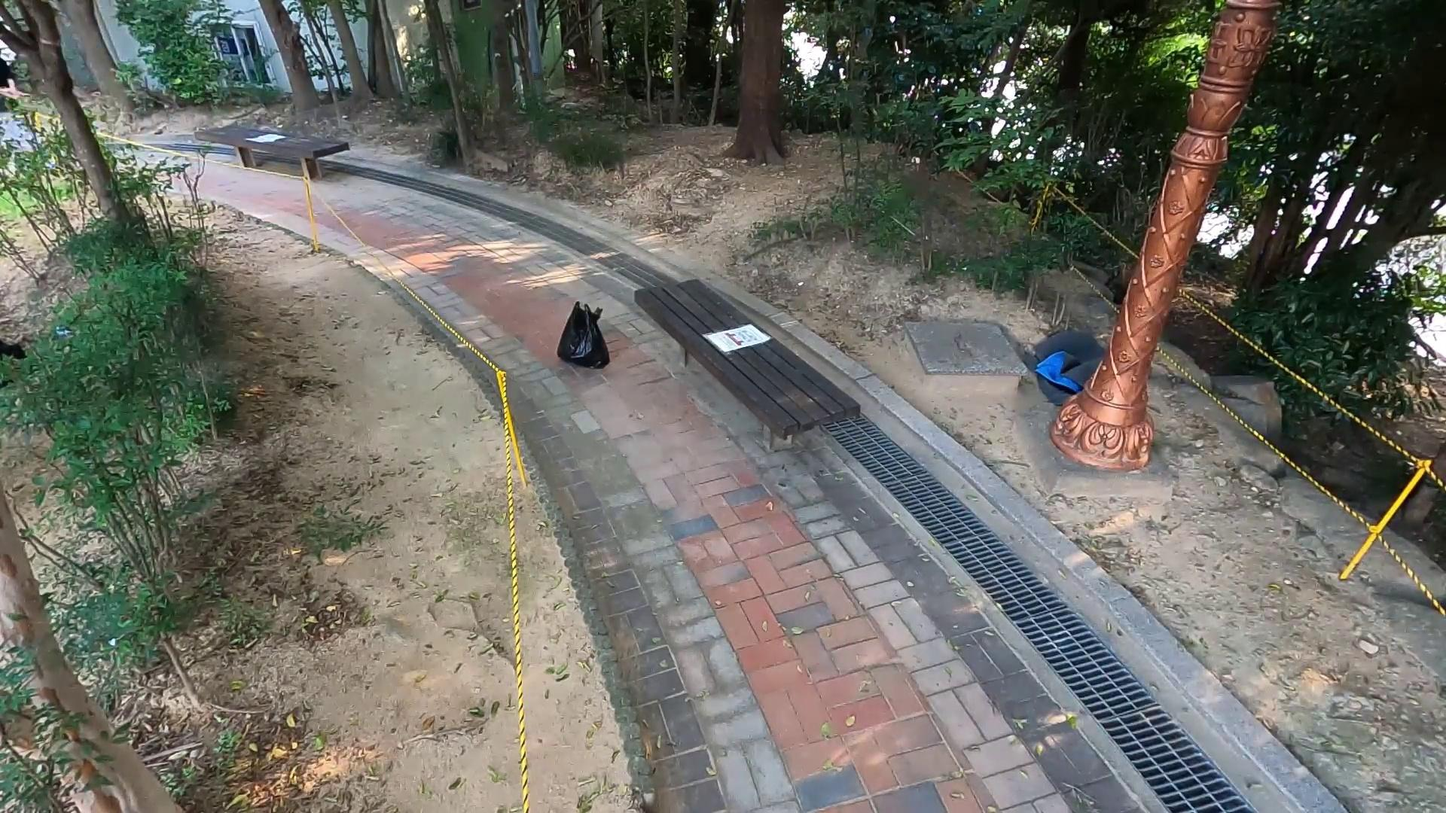trash: (545, 290, 618, 378)
